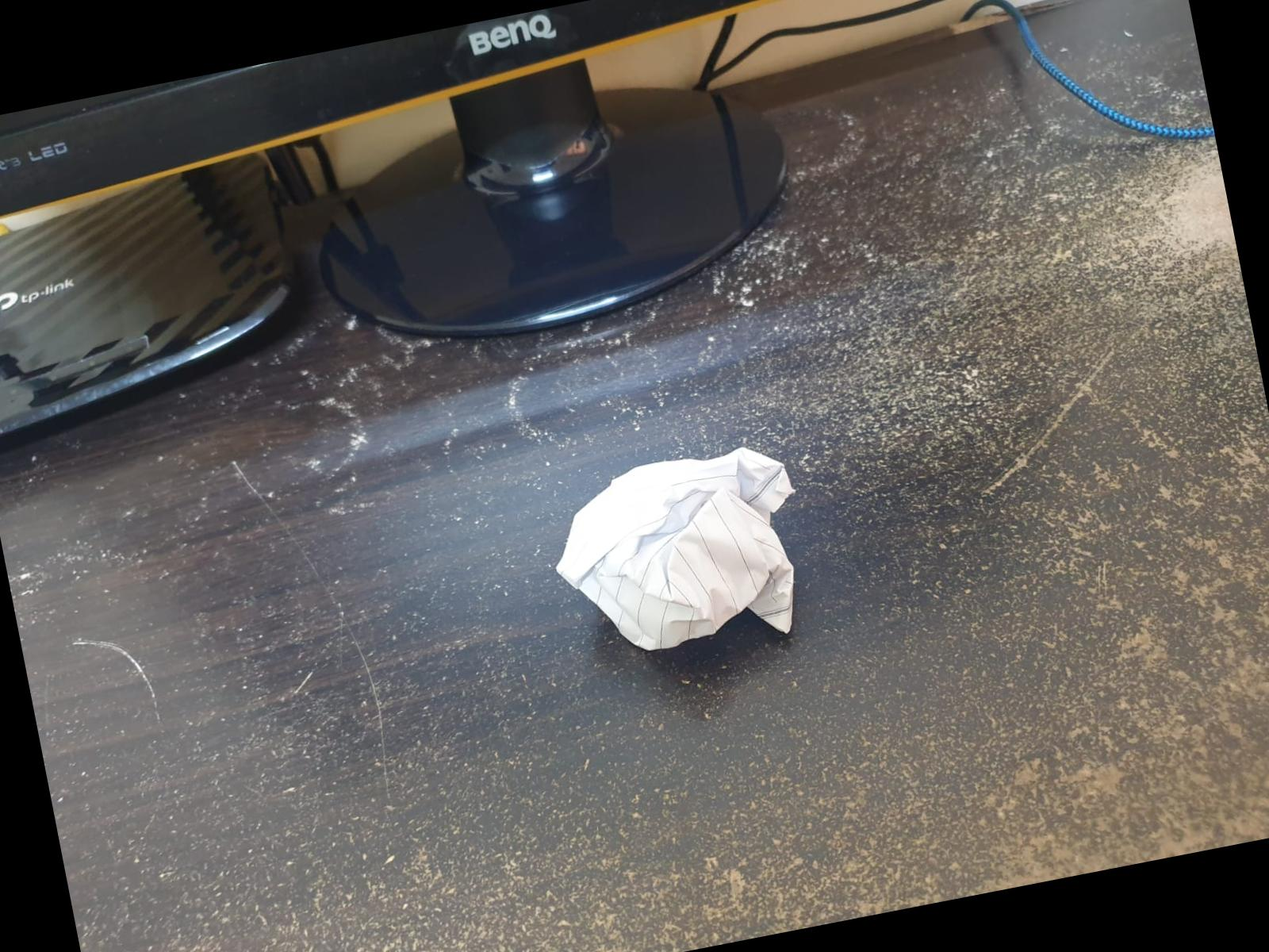Kertas: (537, 434, 811, 672)
